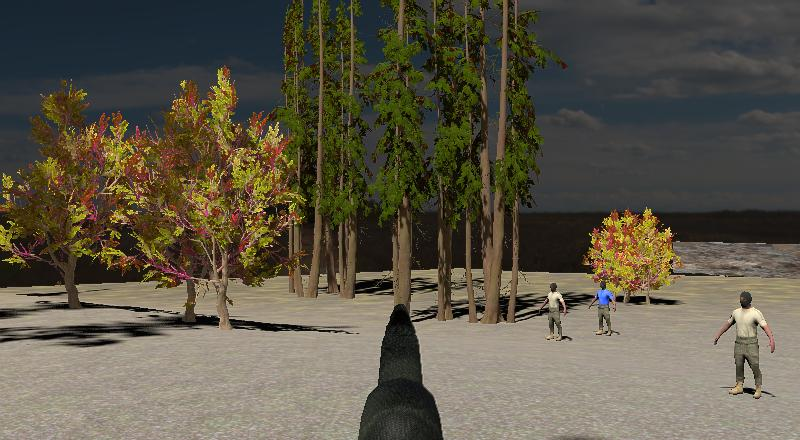Human: (711, 288, 778, 401), (539, 280, 568, 343), (587, 279, 617, 338)
